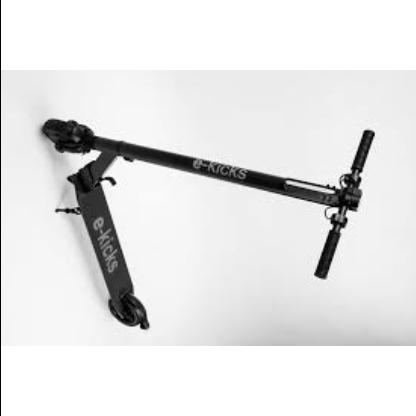bike: (41, 118, 379, 331)
